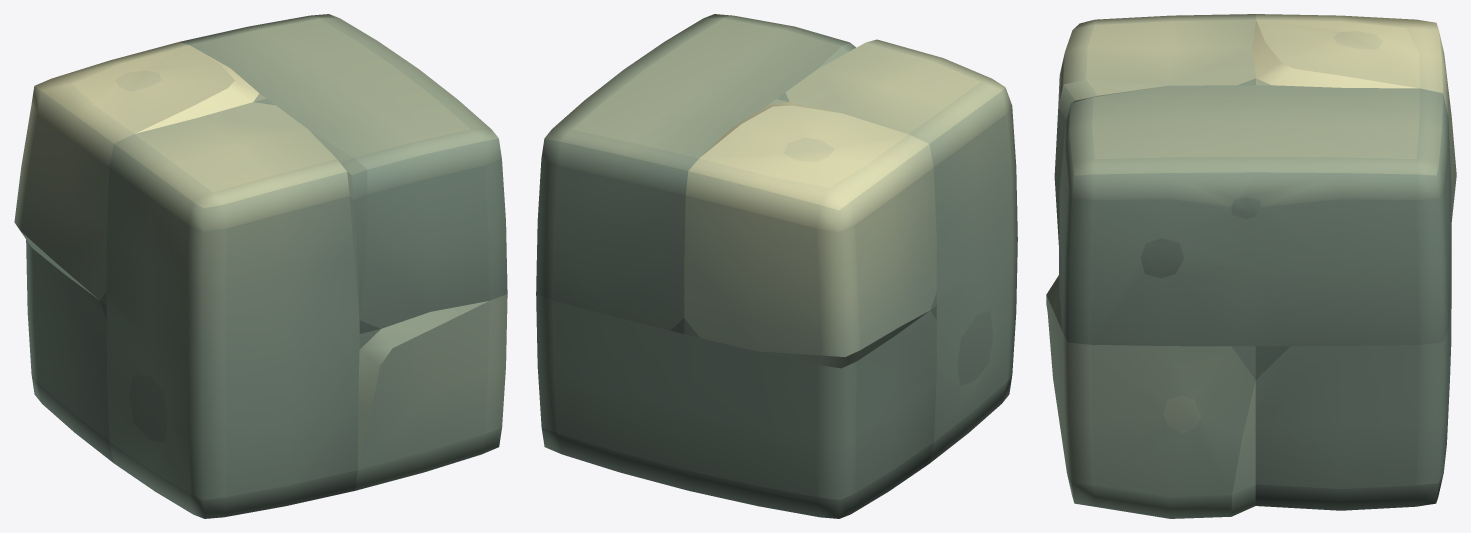
Rendered from block_stone1_1_LOD_group.fbx.
The picture shows the model from 3 angles, left to right: view 1: azimuth 30°, elevation 25°; view 2: azimuth 150°, elevation 25°; view 3: azimuth 270°, elevation 25°; orthographic projection. The views are drawn at different scales.
Parts seen in each view (by area): view 1: block_stone1_1_LOD0; view 2: block_stone1_1_LOD0; view 3: block_stone1_1_LOD0.
Boxes of the visible parts, x1,y1,x2,y2 form: block_stone1_1_LOD0: (14,14,507,518); block_stone1_1_LOD0: (536,14,1017,518); block_stone1_1_LOD0: (1046,14,1456,518).
Size of what is drawn, in the model's own units: 112 by 113 by 114.
1 material, 1 textured.
